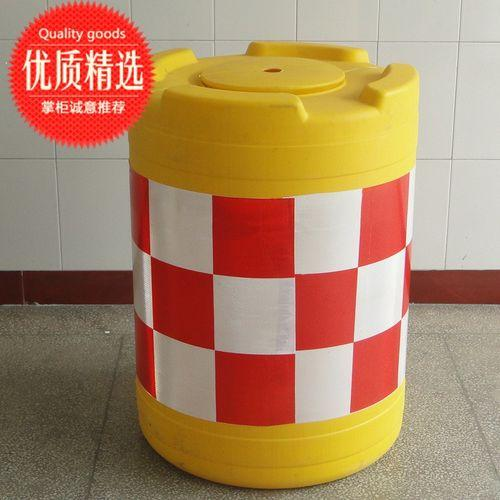sign: (106, 39, 429, 481)
